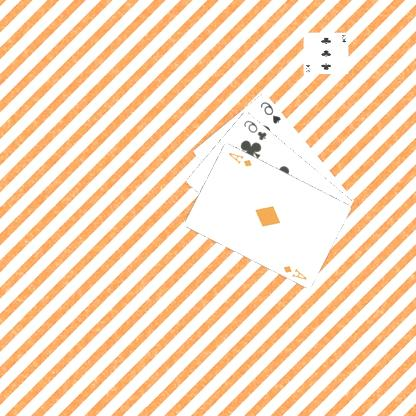6C: (243, 117, 270, 141)
6S: (259, 99, 284, 125)
AD: (282, 262, 311, 282), (227, 149, 255, 168)
